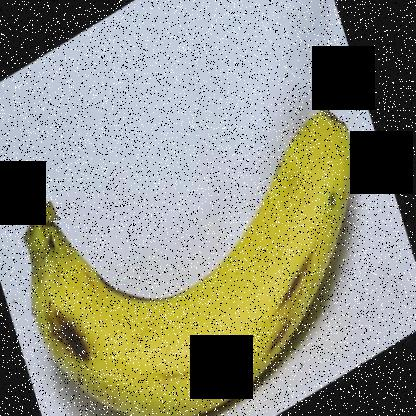freshripe: (6, 98, 362, 414)
